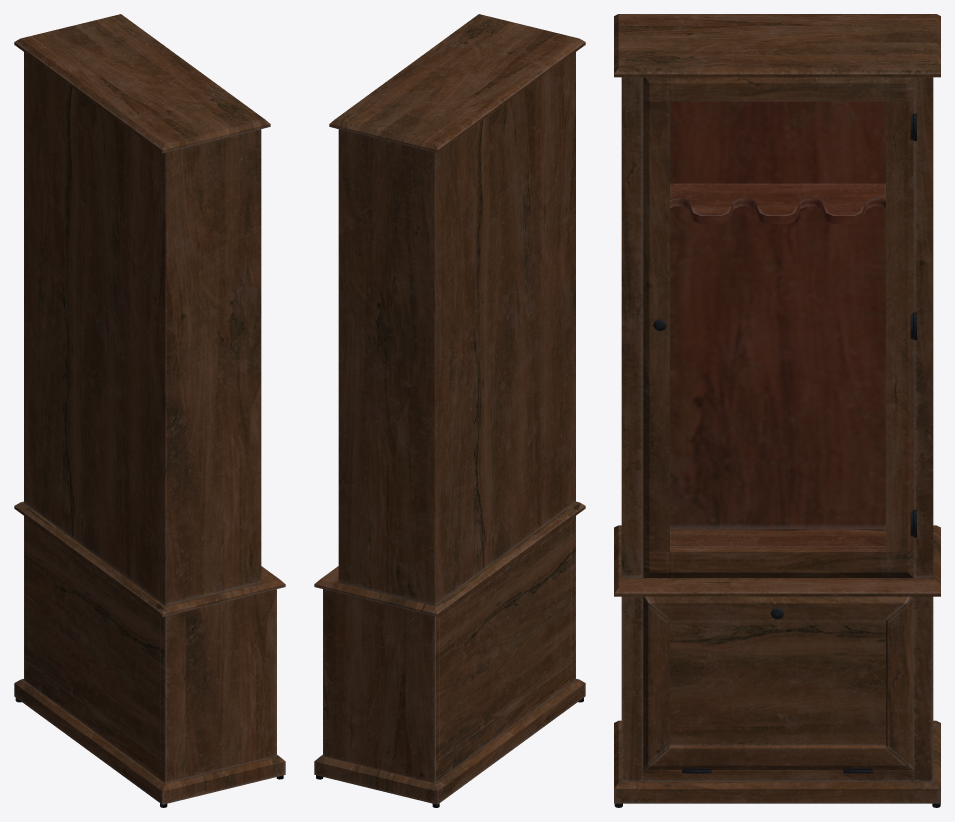
Rendered from SM_RifleCabinetA.FBX.
The picture shows the model from 3 angles, left to right: view 1: azimuth 30°, elevation 25°; view 2: azimuth 150°, elevation 25°; view 3: azimuth 270°, elevation 25°; orthographic projection. The views are drawn at different scales.
Parts seen in each view (by area): view 1: SM_RifleCabinetA; view 2: SM_RifleCabinetA; view 3: SM_RifleCabinetA.
Part boxes in pixels (x1,y1,x2,y2): SM_RifleCabinetA: (14,14,285,807); SM_RifleCabinetA: (314,14,585,807); SM_RifleCabinetA: (614,14,940,807).
Bounding box in the file's own units: 36.23 × 180 × 73.02.
